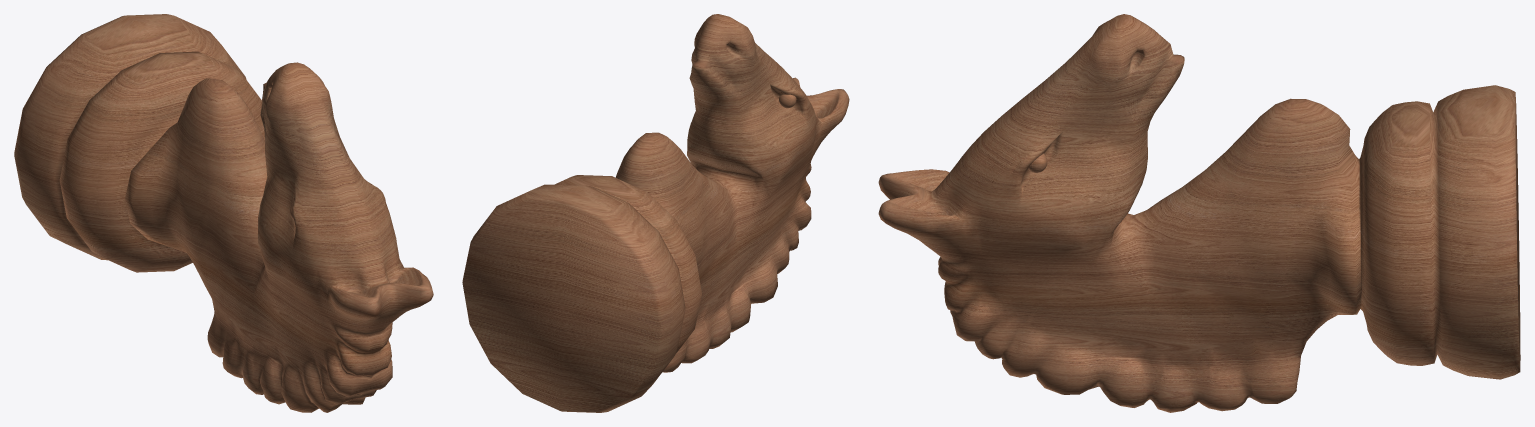
Rendered from knight.obj.
3 views of the same model, side by side, from view 1: azimuth 30°, elevation 25°; view 2: azimuth 150°, elevation 25°; view 3: azimuth 270°, elevation 25° (orthographic). The views are drawn at different scales.
Parts seen in each view (by area): view 1: Knight_Cube.004; view 2: Knight_Cube.004; view 3: Knight_Cube.004.
Part boxes in pixels (x1=…): Knight_Cube.004: x1=14, y1=14, x2=433, y2=412; Knight_Cube.004: x1=462, y1=14, x2=849, y2=412; Knight_Cube.004: x1=878, y1=14, x2=1520, y2=412.
Bounding box in the file's own units: 1.08 × 1.56 × 2.36.
